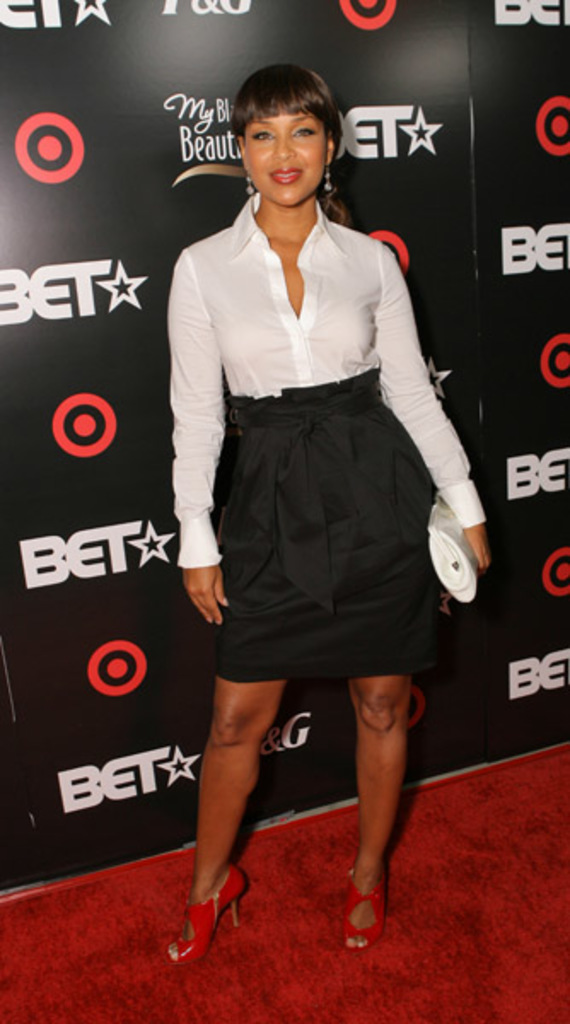Human_hand: (183, 564, 227, 623), (464, 519, 491, 574)
